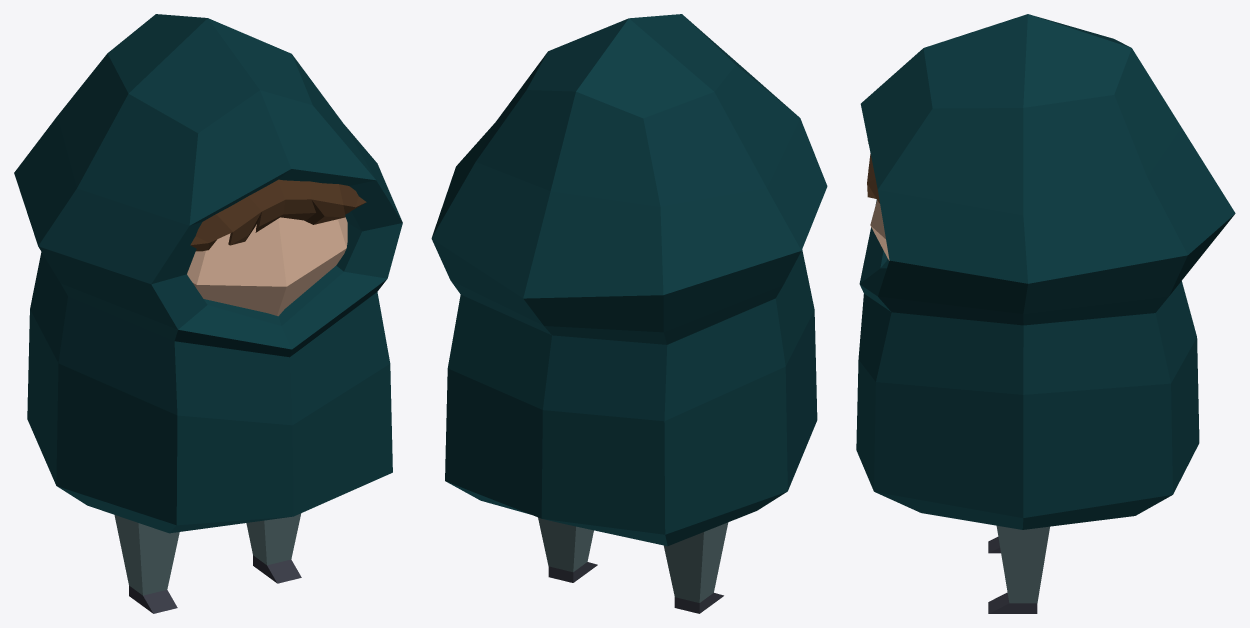
The model's file is player.glb.
The picture shows the model from 3 angles, left to right: view 1: azimuth 30°, elevation 25°; view 2: azimuth 150°, elevation 25°; view 3: azimuth 270°, elevation 25°; orthographic projection.
Visible parts, largest first — view 1: Cube; view 2: Cube; view 3: Cube.
Boxes of the visible parts, x1,y1,x2,y2 form: Cube: (14,14,402,613); Cube: (431,14,827,613); Cube: (856,14,1235,613).
Bounding box in the file's own units: 1.26 × 2 × 1.22.
